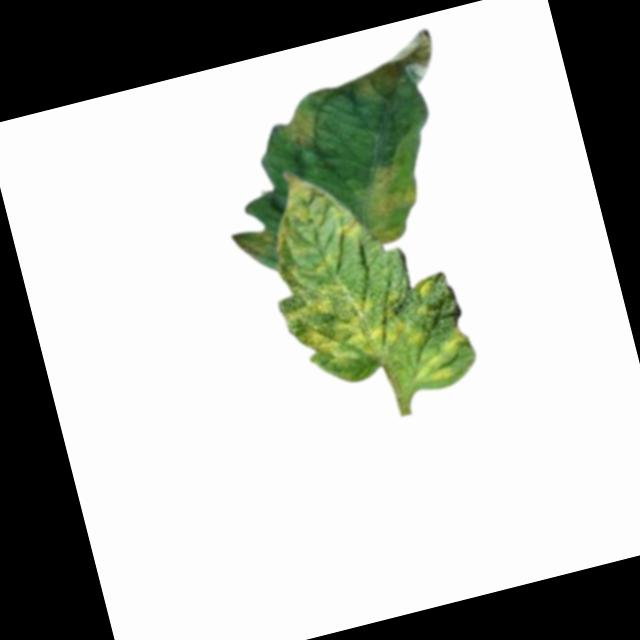Leaf_Mold: (268, 227, 481, 415), (344, 122, 447, 249), (338, 25, 445, 109), (272, 160, 345, 231), (276, 100, 331, 152), (229, 222, 285, 264), (330, 212, 365, 242)
